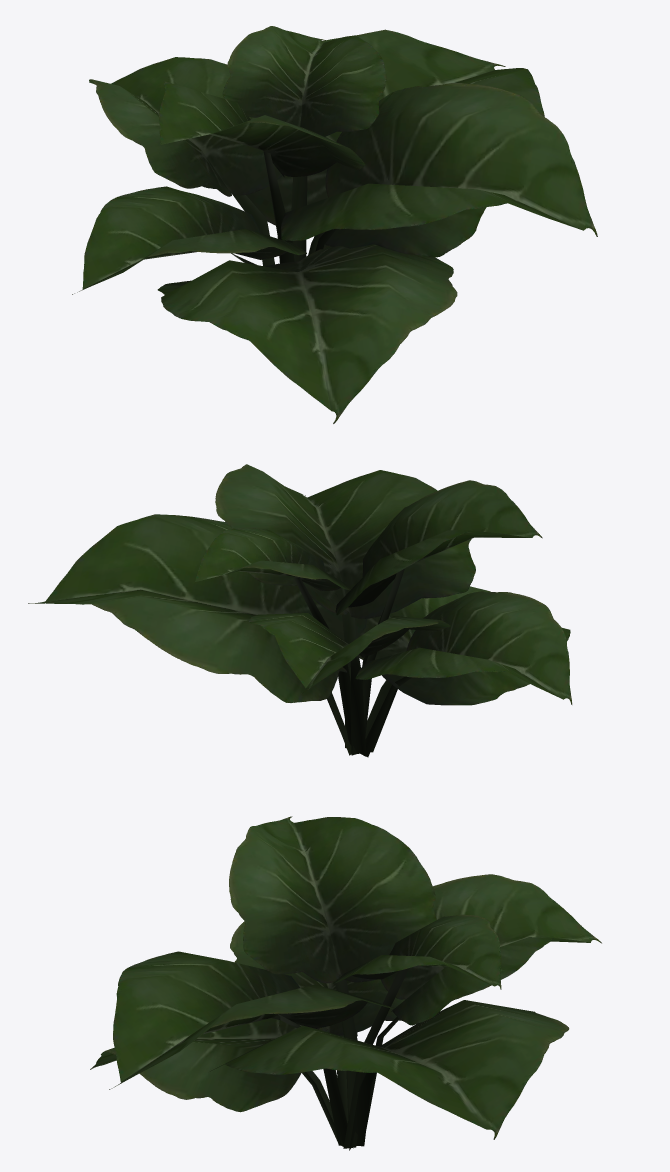
The picture shows the model from 3 angles, top to bottom: view 1: azimuth 30°, elevation 25°; view 2: azimuth 150°, elevation 25°; view 3: azimuth 270°, elevation 25°; orthographic projection. The views are drawn at different scales.
Parts seen in each view (by area): view 1: body0_model0_lod0_mesh0; view 2: body0_model0_lod0_mesh0; view 3: body0_model0_lod0_mesh0.
Part boxes in pixels (box(x1,y1,x2,y2)): body0_model0_lod0_mesh0: box(72, 26, 597, 423); body0_model0_lod0_mesh0: box(28, 464, 572, 757); body0_model0_lod0_mesh0: box(90, 816, 601, 1150).
Bounding box in the file's own units: 122 × 56.67 × 119.
1 material, 1 textured.
